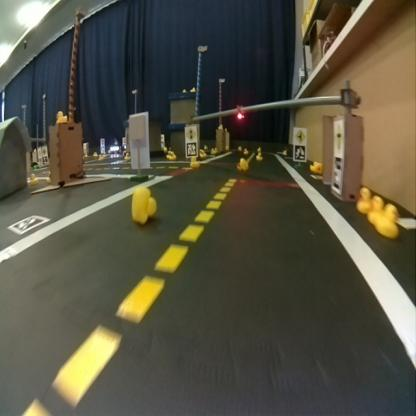Duckie: (132, 190, 156, 224), (379, 204, 398, 238), (367, 196, 383, 223), (357, 186, 370, 211), (54, 110, 67, 121), (236, 159, 248, 169), (190, 154, 198, 166), (255, 152, 262, 160)
Intersection sign: (294, 128, 306, 143)
QR code: (8, 214, 49, 234), (331, 155, 343, 191), (294, 144, 305, 159), (186, 142, 196, 154)
Signal sign: (186, 128, 194, 140)
Traffic light: (236, 108, 244, 120)
